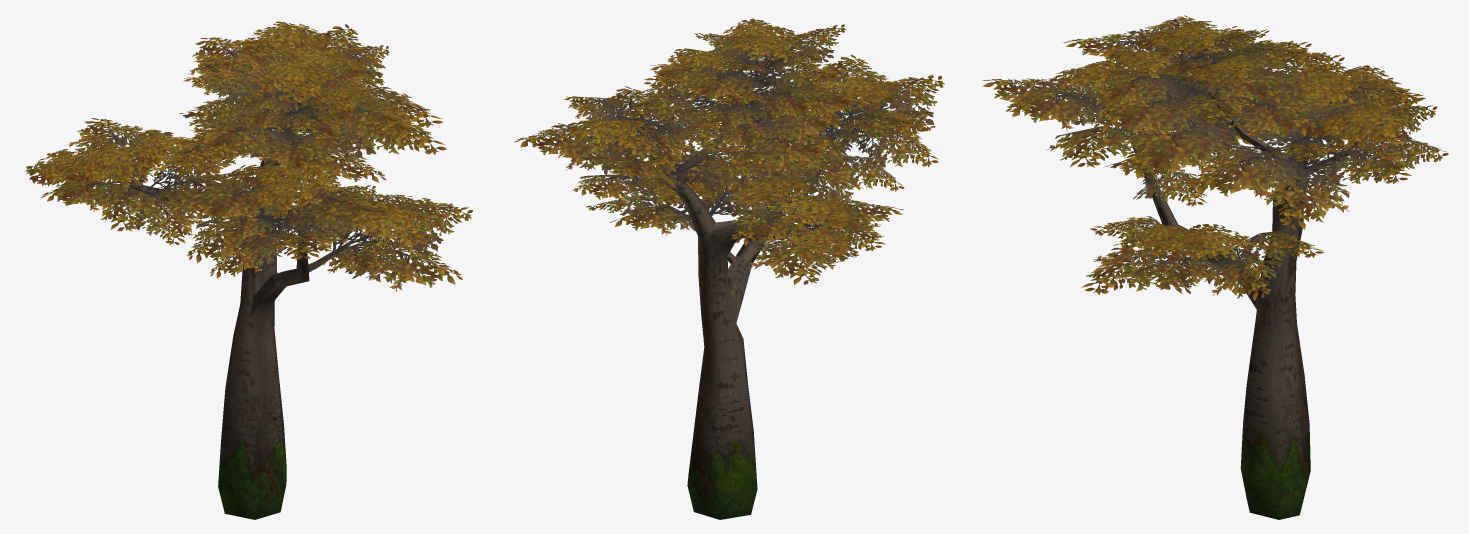
Rendered from fb_tys_tree_03.FBX.
3 renders of one model, left to right at view 1: azimuth 30°, elevation 25°; view 2: azimuth 150°, elevation 25°; view 3: azimuth 270°, elevation 25°, orthographic. The views are drawn at different scales.
Visible parts, largest first — view 1: fb_tys_tree_03_b, fb_tys_tree_03_a; view 2: fb_tys_tree_03_b, fb_tys_tree_03_a; view 3: fb_tys_tree_03_b, fb_tys_tree_03_a.
Part boxes in pixels (box(x1,y1,x2,y2)): fb_tys_tree_03_b: box(25, 21, 473, 291); fb_tys_tree_03_a: box(115, 103, 360, 519); fb_tys_tree_03_b: box(514, 18, 944, 285); fb_tys_tree_03_a: box(619, 55, 858, 519); fb_tys_tree_03_b: box(982, 15, 1448, 300); fb_tys_tree_03_a: box(1126, 53, 1359, 519).
Size of the model in its own units: 469 by 563 by 515.
